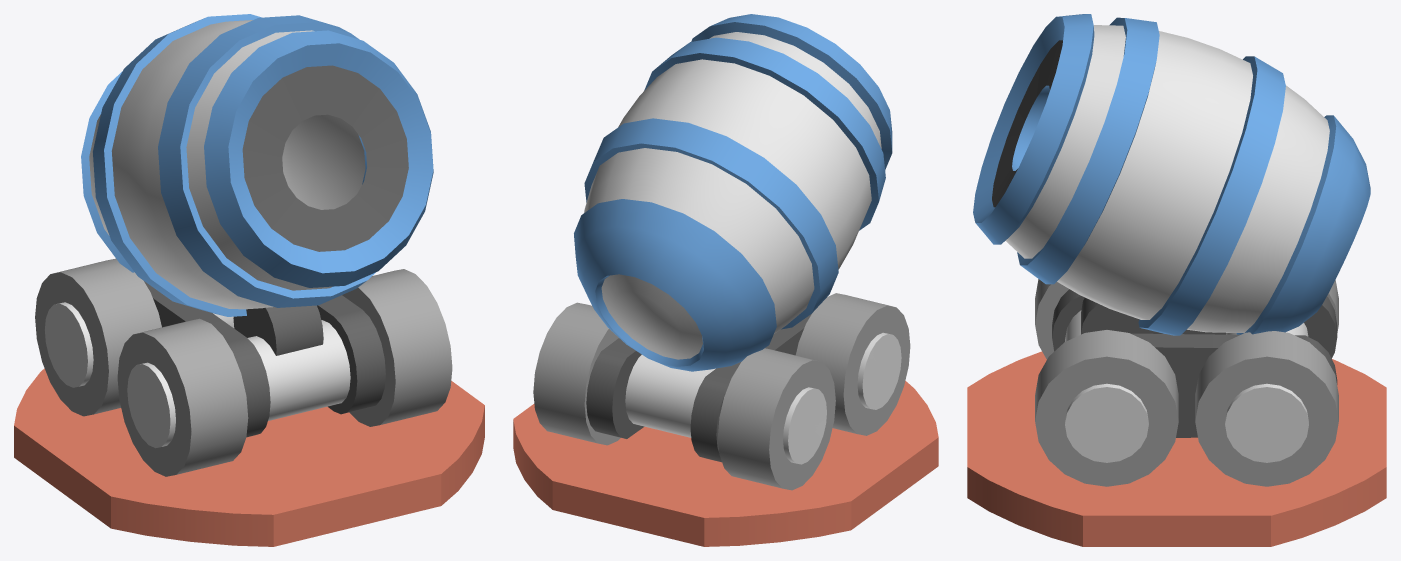
File: Mortar.fbx
3 views of the same model, side by side, from view 1: azimuth 30°, elevation 25°; view 2: azimuth 150°, elevation 25°; view 3: azimuth 270°, elevation 25° (orthographic). The views are drawn at different scales.
Parts seen in each view (by area): view 1: Mortar; view 2: Mortar; view 3: Mortar.
Part boxes in pixels (x1,y1,x2,y2): Mortar: (14, 14, 484, 546); Mortar: (513, 14, 938, 546); Mortar: (967, 14, 1386, 546).
Bounding box in the file's own units: 74.69 × 85.13 × 74.69.
